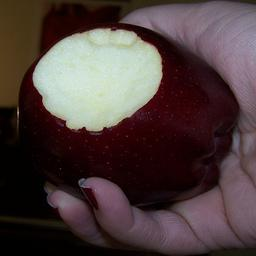apple: (18, 22, 238, 204)
